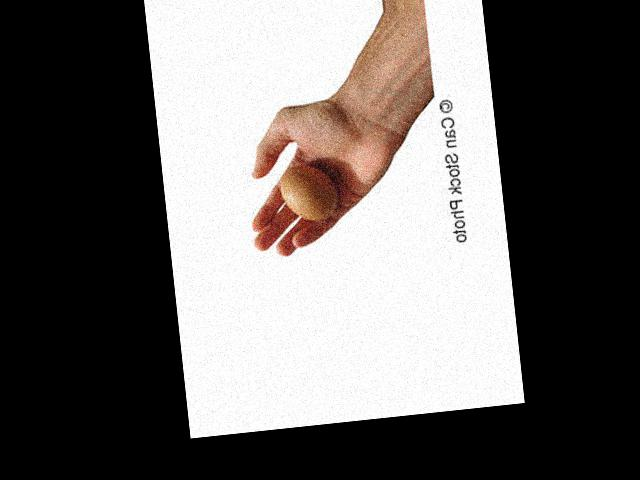egg: (280, 164, 339, 224)
